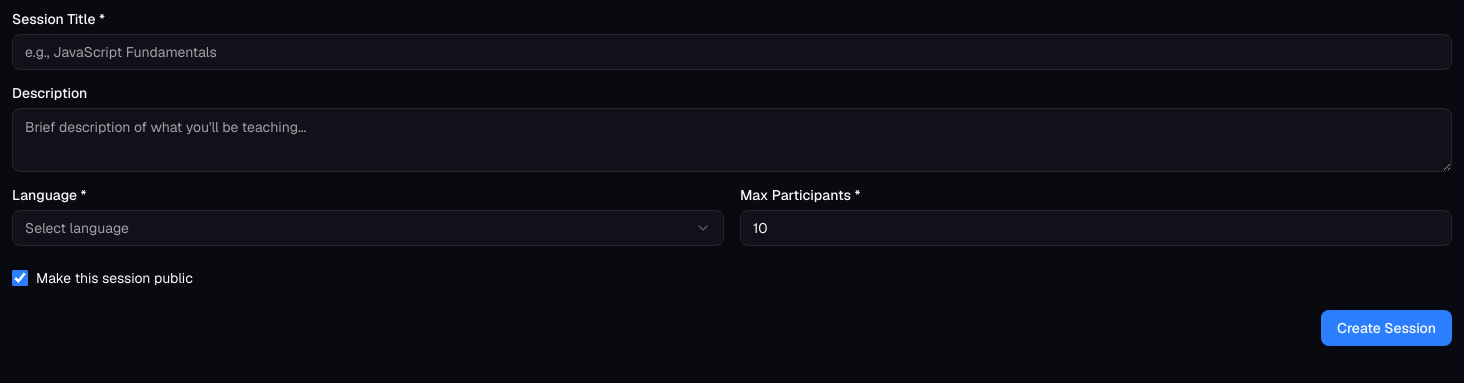
CreateSessionForm › validates participant limits - max exceeded
Step 1. Type "Valid Title" into the field labelled "Session Title *" → (732,52), box [12, 34, 1452, 70]
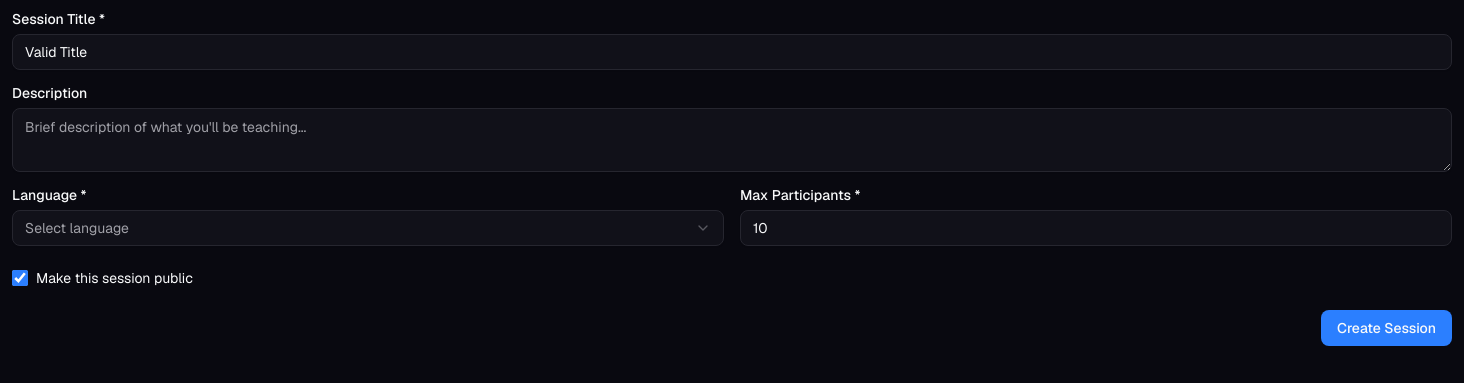
Step 2. Replace the text in the number field labelled "Max Participants *" with "51" → (1096,228), box [740, 210, 1452, 246]
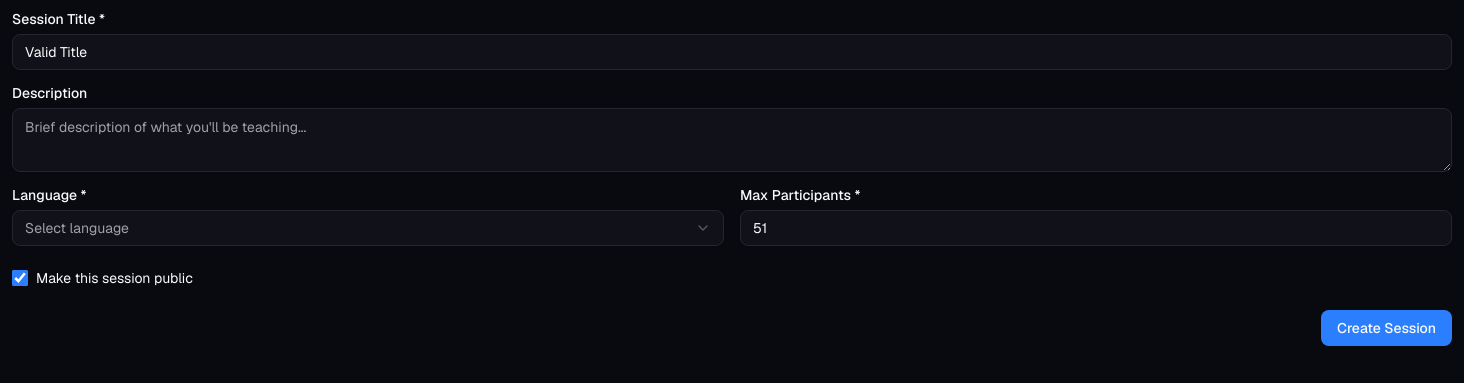
Step 3. Submit the form
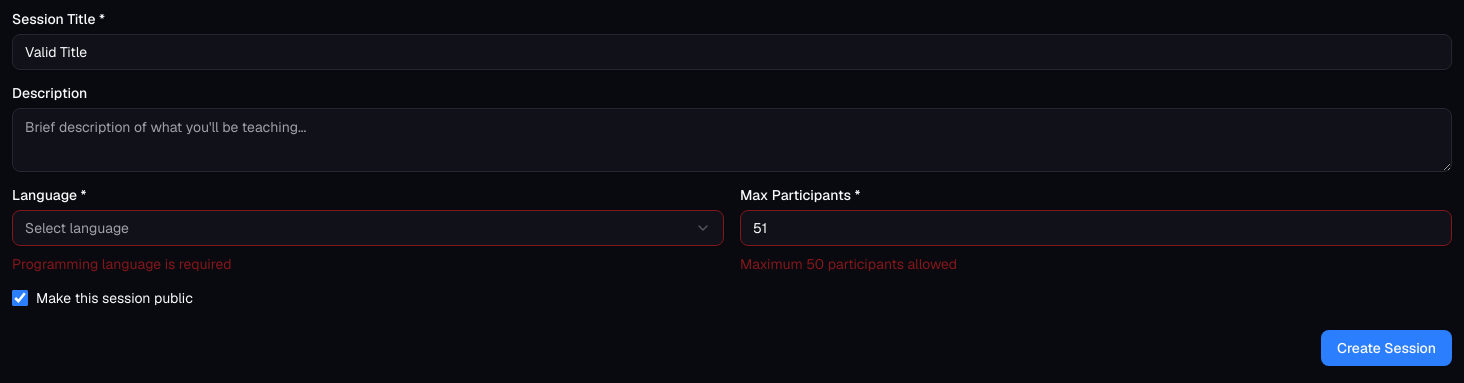
Check: the text "Maximum 50 participants allowed" is shown, box [740, 255, 957, 273]
